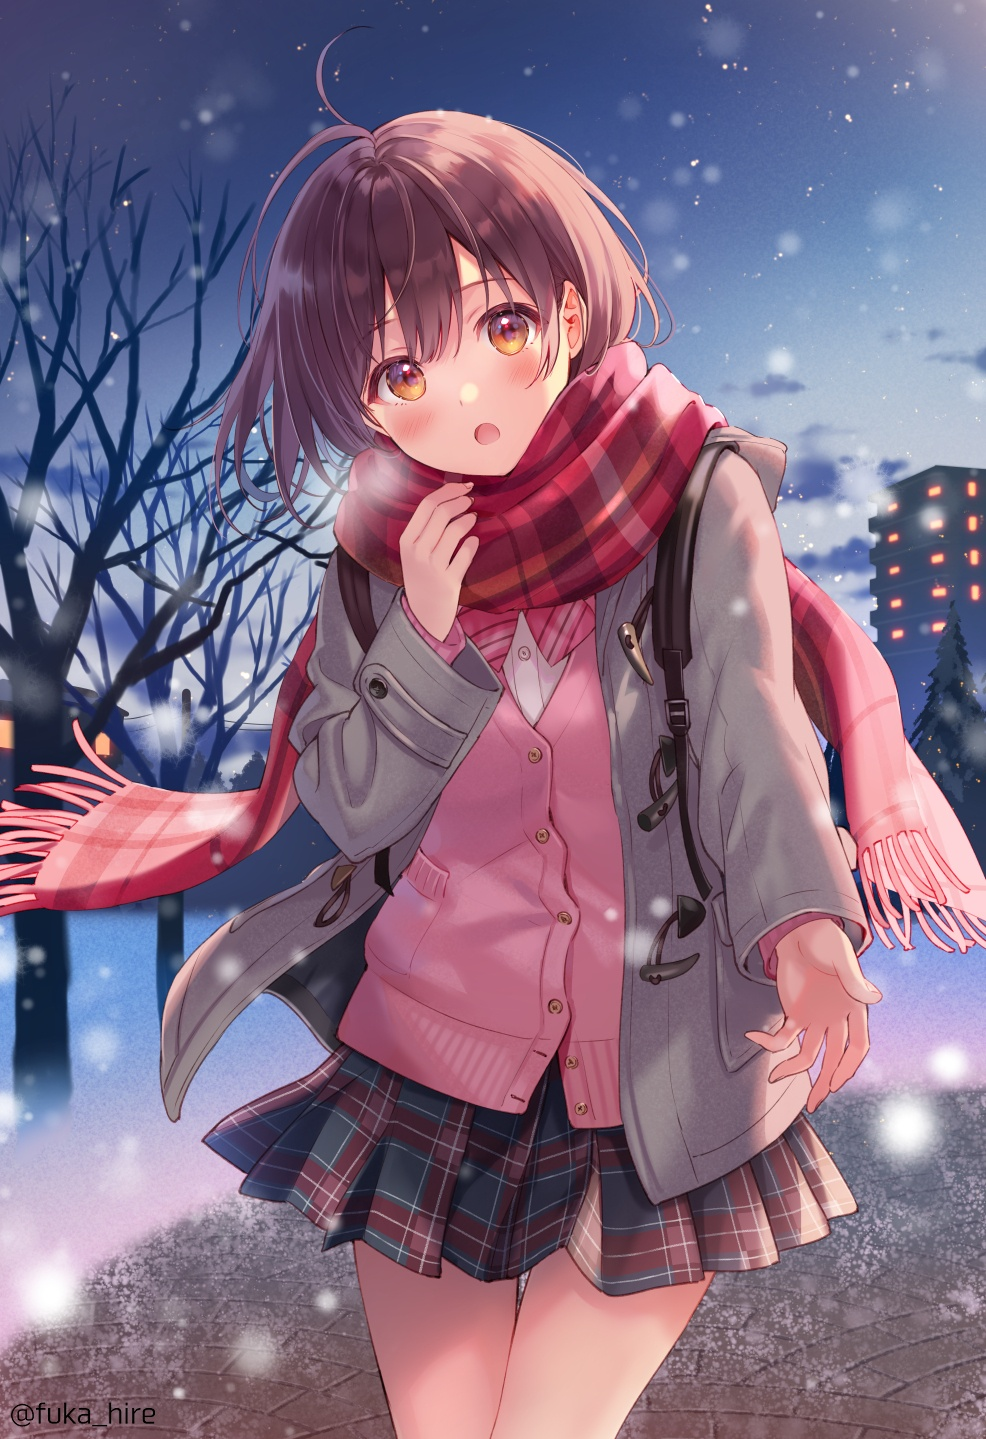纸片人正脸: (229, 99, 657, 494)
